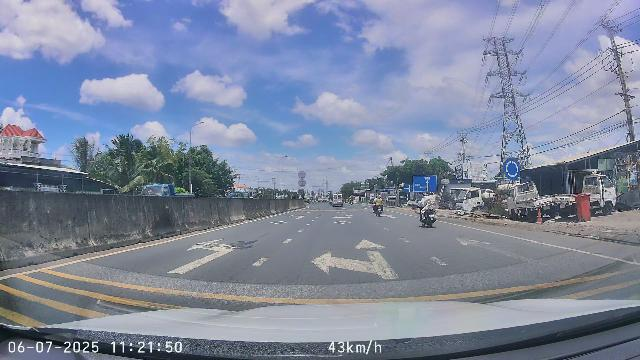301h-cac-xe-chi-duoc-di-thang-va-re-trai: (403, 183, 412, 193)
303-noi-giao-nhau-chay-theo-vong-xuyen: (503, 158, 521, 180)
